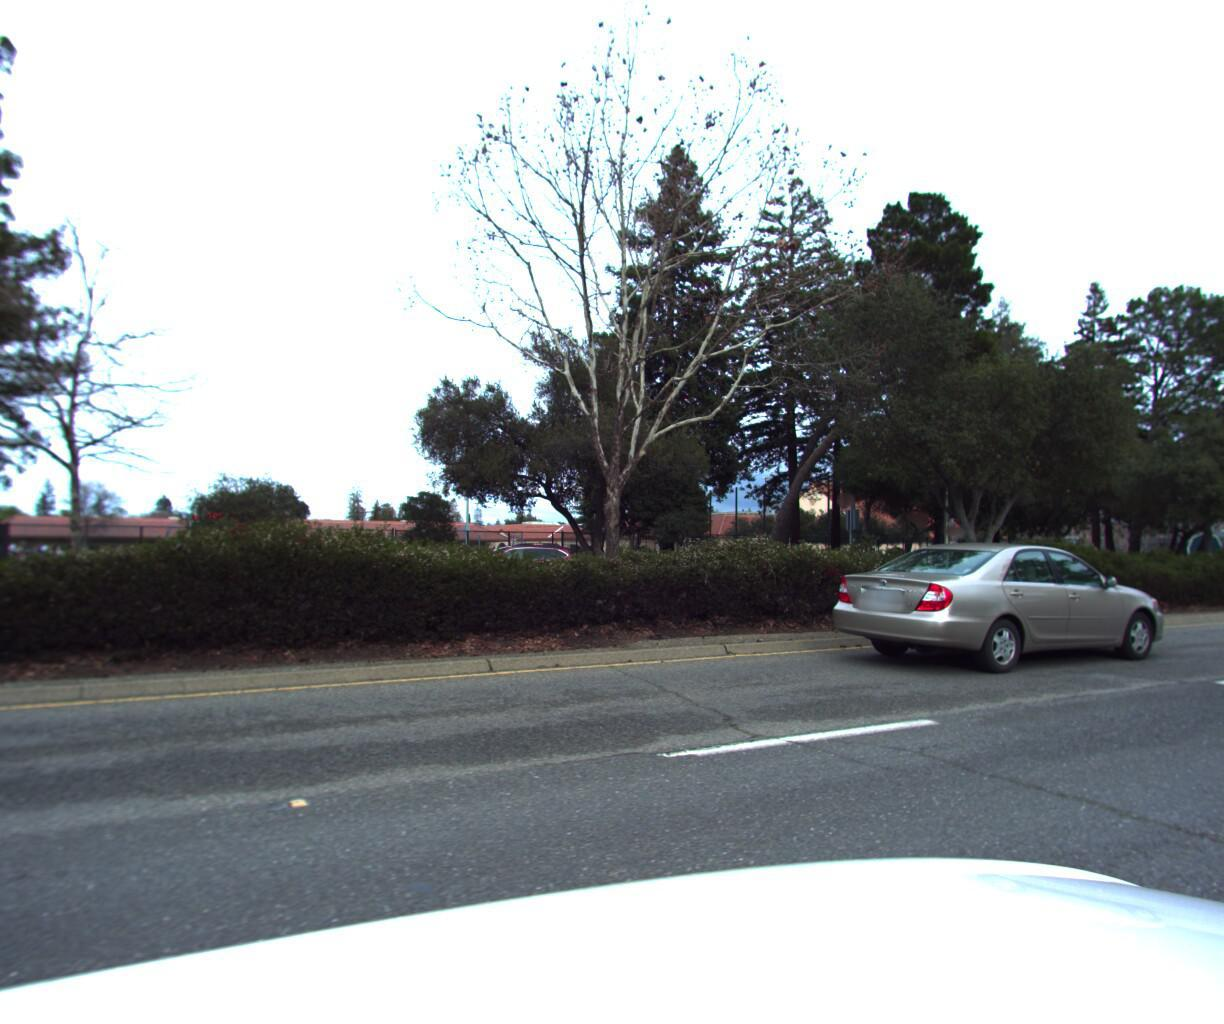car: (809, 528, 1179, 685), (439, 537, 589, 595)
